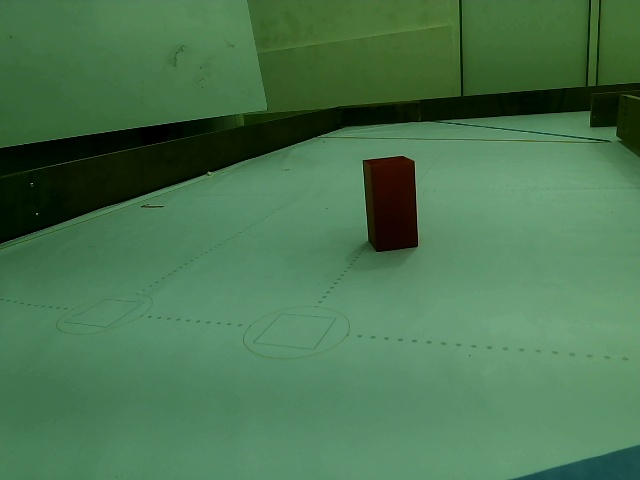red: (362, 160, 418, 246)
